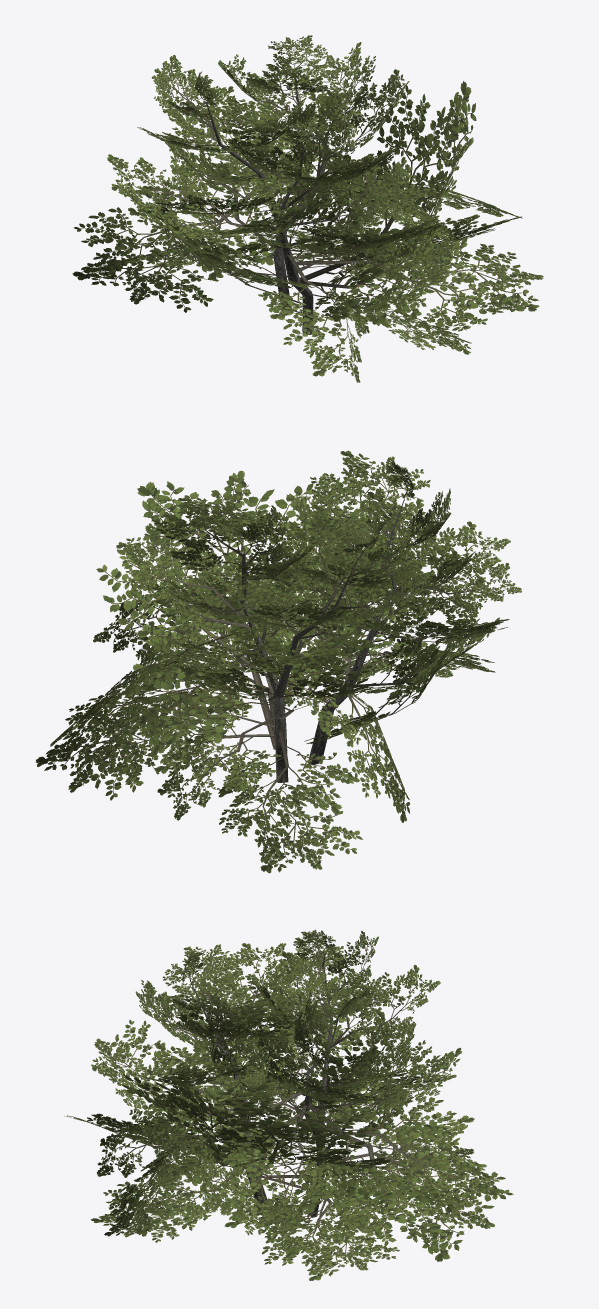
The model's file is bush1.fbx.
3 renders of one model, top to bottom at view 1: azimuth 30°, elevation 25°; view 2: azimuth 150°, elevation 25°; view 3: azimuth 270°, elevation 25°, orthographic. The views are drawn at different scales.
Parts seen in each view (by area): view 1: Bush-05; view 2: Bush-05; view 3: Bush-05.
Boxes of the visible parts, x1,y1,x2,y2 form: Bush-05: (72, 35, 543, 382); Bush-05: (36, 450, 521, 873); Bush-05: (65, 929, 513, 1280).
Bounding box in the file's own units: 423 × 224 × 463.
